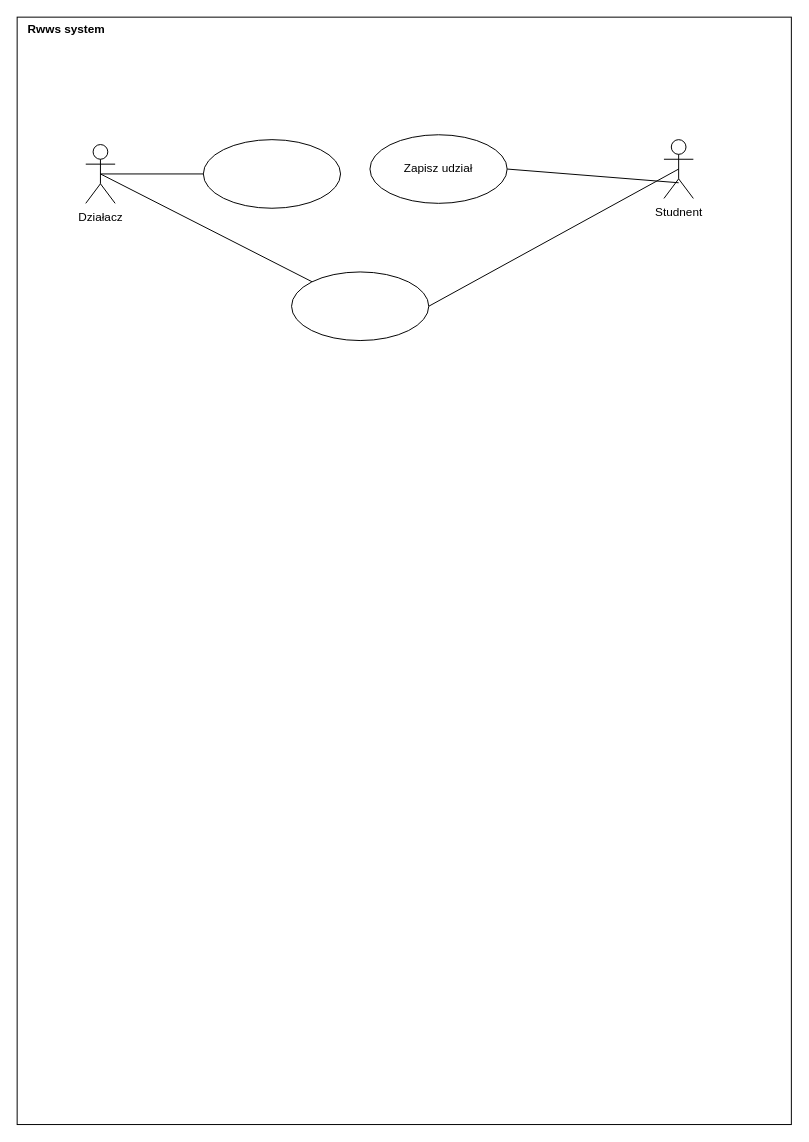
This 809x1142 diagram has some shape labels left out. The shapes that lost their labels are listed below. From the top down, each one's centre as x and y in pixels, then its label:
the point at 271,173: Zarządzaj imprezą
the point at 360,306: Generuj raport
